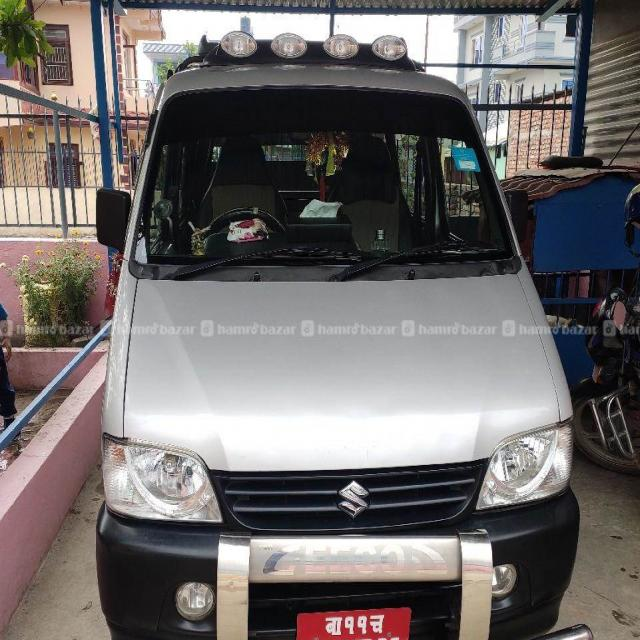License-plate: (296, 605, 412, 640)
